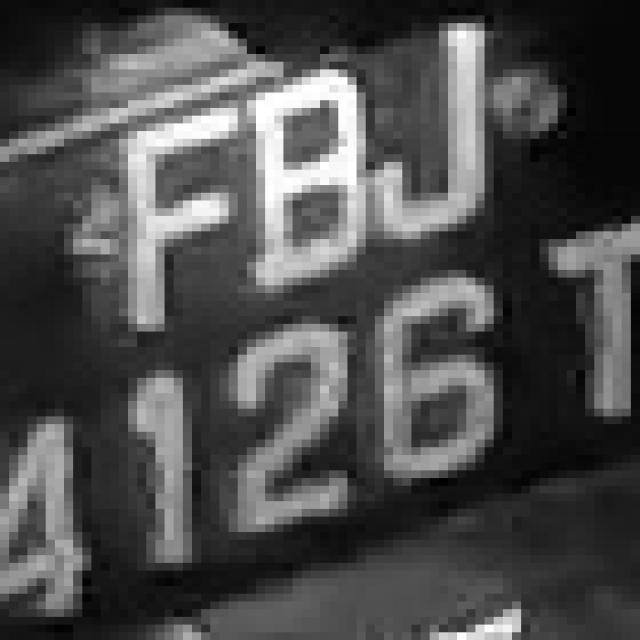1: (110, 355, 192, 609)
2: (210, 308, 357, 540)
4: (0, 386, 110, 624)
6: (357, 270, 530, 478)
B: (238, 69, 393, 293)
F: (91, 85, 247, 347)
J: (393, 31, 503, 231)
T: (521, 223, 622, 440)
